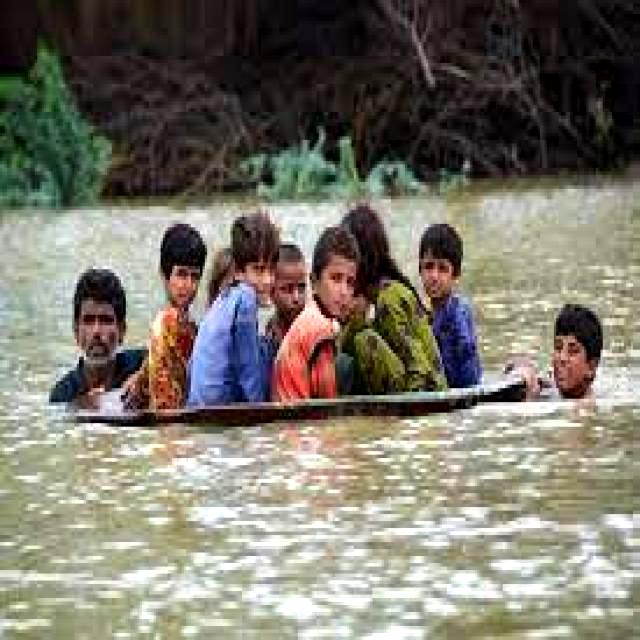civilian: (343, 196, 449, 398), (206, 207, 280, 416), (283, 212, 359, 400), (49, 260, 139, 418), (408, 216, 483, 388), (143, 215, 204, 411), (516, 288, 606, 419), (272, 237, 306, 349), (201, 222, 241, 306)
